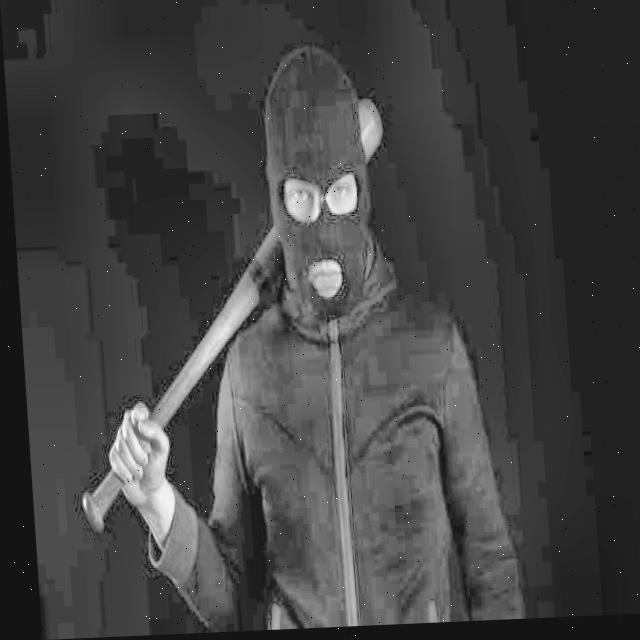tongkat pemukul: (69, 94, 397, 535)
